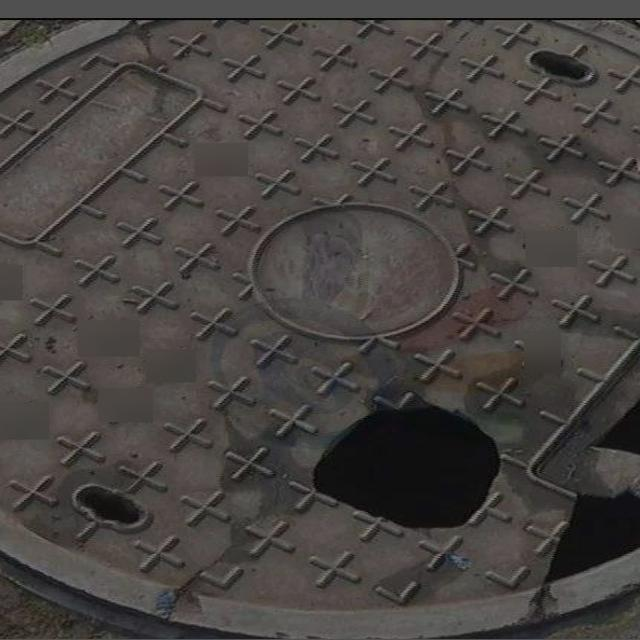broke: (0, 19, 640, 619)
